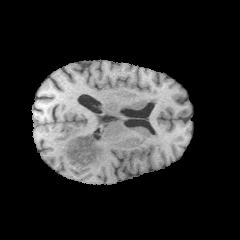glioma: (56, 128, 111, 174)
